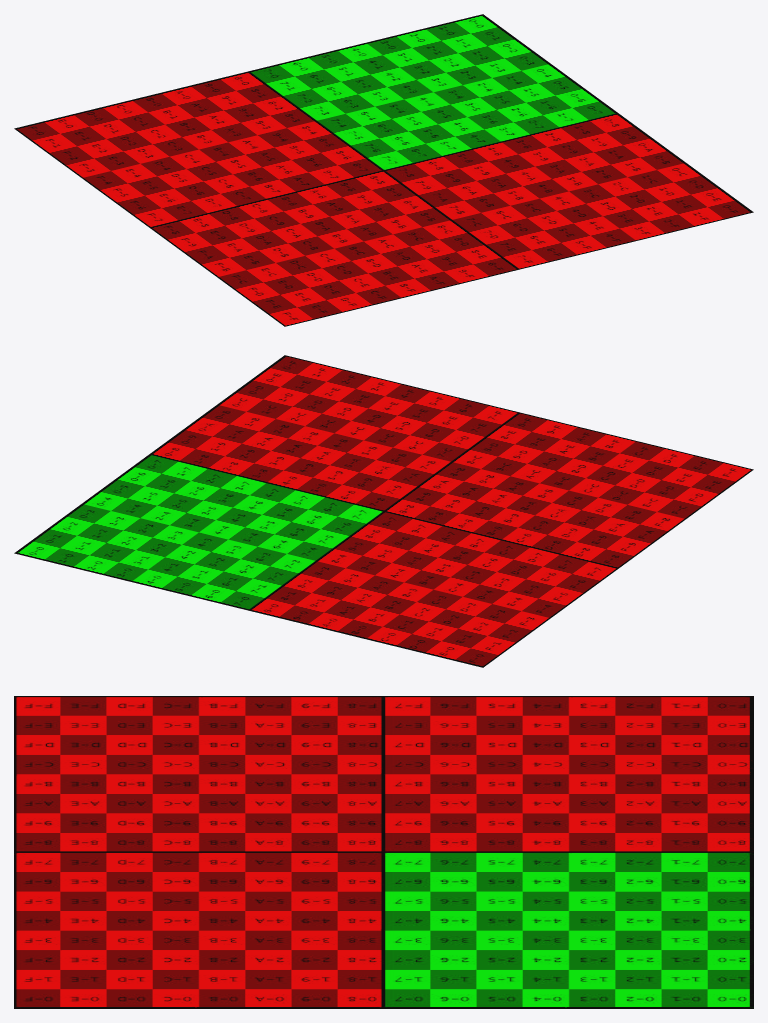
The model's file is morph_primitives.glb.
The picture shows the model from 3 angles, top to bottom: view 1: azimuth 30°, elevation 25°; view 2: azimuth 150°, elevation 25°; view 3: azimuth 270°, elevation 25°; orthographic projection. The views are drawn at different scales.
Parts seen in each view (by area): view 1: ルートパート; view 2: ルートパート; view 3: ルートパート.
Boxes of the visible parts, bbox=[...] form: ルートパート: bbox=[14, 14, 753, 326]; ルートパート: bbox=[14, 355, 753, 667]; ルートパート: bbox=[14, 696, 753, 1008].
Size of the model in its own units: 1 by 0 by 1.
2 materials, 2 textured.
